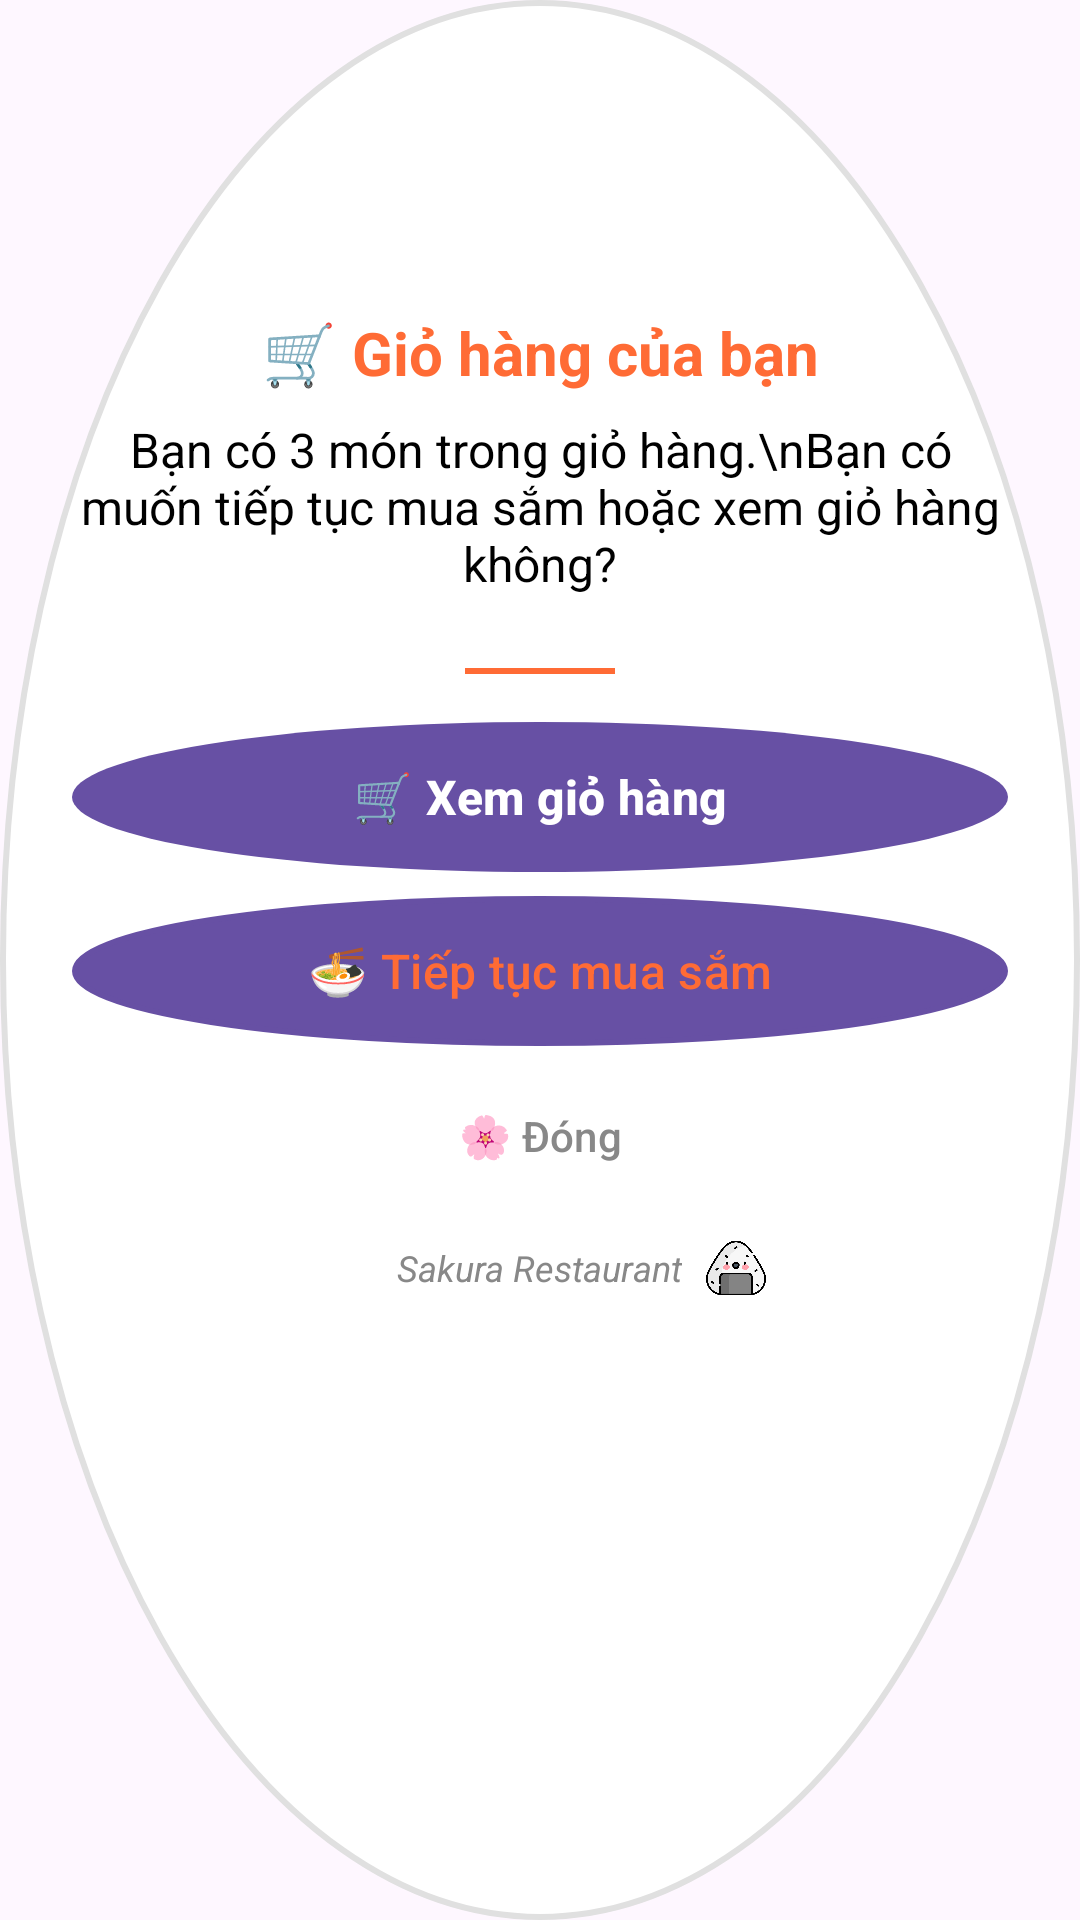

Icons on this 1080×1920 Android screen, each with its box as (x1,y1,x2,y2):
onigiri: (706,1241,766,1295)
